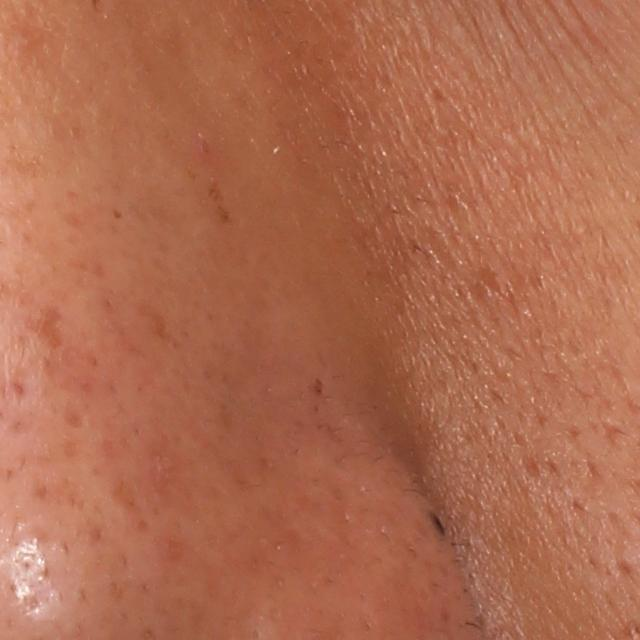melasma: (205, 181, 238, 229)
